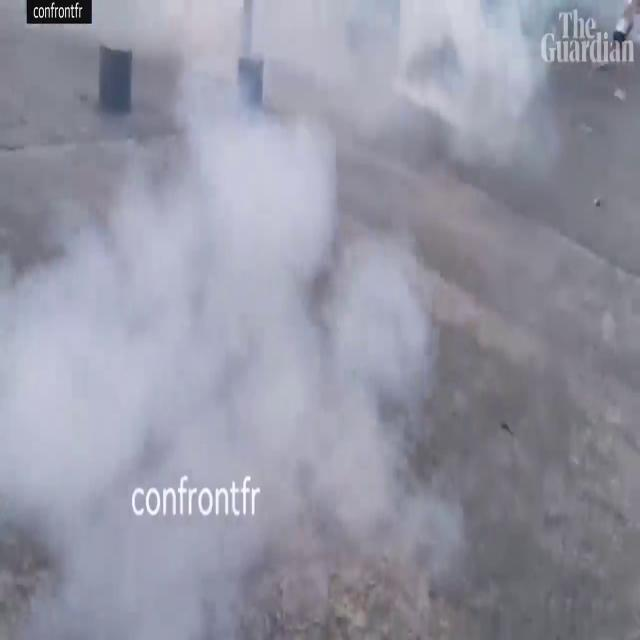Smoke: (0, 1, 482, 636)
